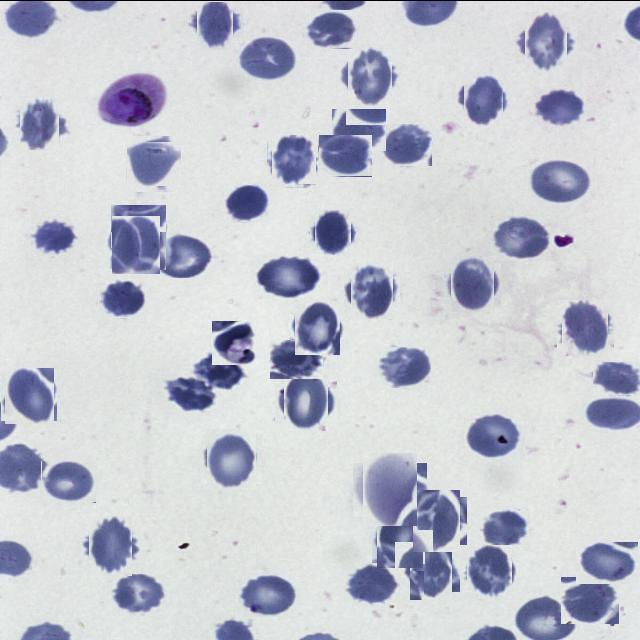difficult: (96, 74, 166, 127)
red blood cell: (358, 457, 422, 521), (254, 253, 324, 298), (408, 492, 464, 548), (525, 158, 593, 204), (204, 430, 259, 486), (343, 47, 397, 102), (2, 368, 56, 422), (464, 412, 525, 459), (110, 217, 163, 271), (152, 230, 214, 276), (374, 512, 428, 564), (236, 35, 298, 80), (561, 576, 619, 623), (280, 374, 332, 426), (84, 519, 136, 571), (520, 16, 572, 68), (491, 215, 551, 260), (560, 301, 611, 353), (236, 574, 297, 617), (576, 541, 638, 583), (406, 544, 456, 595), (448, 258, 498, 308), (464, 546, 514, 596), (347, 264, 397, 314), (292, 302, 342, 352), (128, 138, 178, 188), (110, 204, 166, 248), (270, 137, 319, 186), (108, 572, 165, 614), (331, 108, 386, 151), (376, 346, 432, 388), (41, 460, 96, 502), (318, 134, 372, 176), (460, 74, 507, 122), (380, 123, 432, 166), (161, 373, 218, 412), (16, 99, 63, 146), (302, 9, 358, 48), (346, 563, 400, 603), (269, 339, 323, 379), (480, 508, 530, 550), (534, 86, 586, 126), (192, 0, 238, 45), (192, 352, 245, 389), (212, 320, 256, 364), (29, 218, 78, 257), (98, 278, 146, 317), (224, 184, 269, 221), (312, 212, 353, 252), (592, 361, 640, 395)
